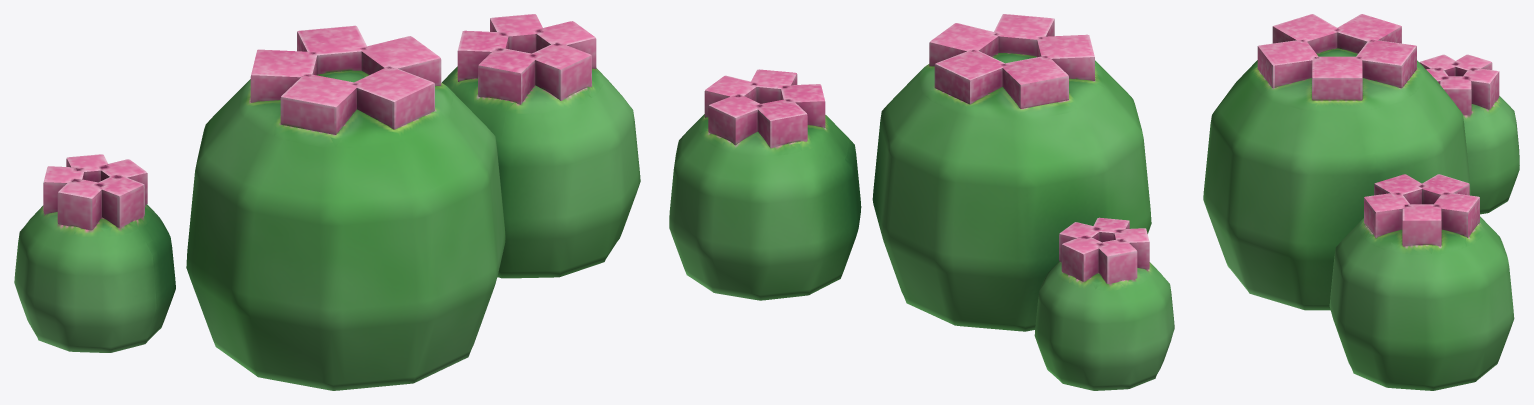
The model's file is Desert_CactusTonneau.fbx.
The picture shows the model from 3 angles, left to right: view 1: azimuth 30°, elevation 25°; view 2: azimuth 150°, elevation 25°; view 3: azimuth 270°, elevation 25°; orthographic projection. The views are drawn at different scales.
Parts seen in each view (by area): view 1: Desert_CactusTonneau; view 2: Desert_CactusTonneau; view 3: Desert_CactusTonneau.
Boxes of the visible parts, x1=… form: Desert_CactusTonneau: x1=14, y1=14, x2=640, y2=390; Desert_CactusTonneau: x1=669, y1=14, x2=1174, y2=390; Desert_CactusTonneau: x1=1203, y1=14, x2=1519, y2=390.
Bounding box in the file's own units: 648 × 290 × 374.
1 material, 1 textured.
